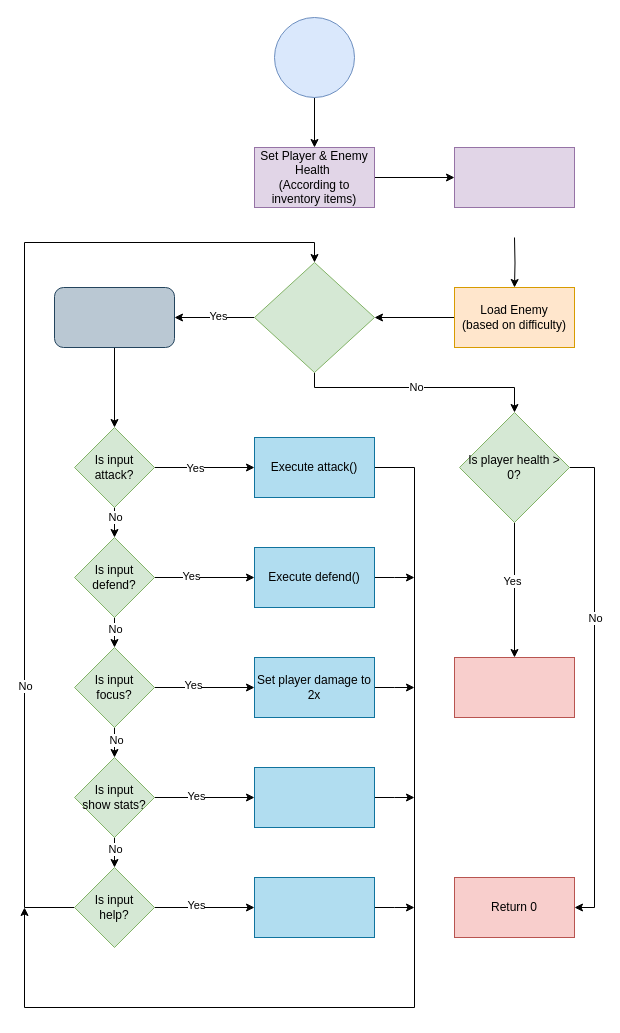
Image size: 620x1033. Some labels were removed from this diagram. Here are the shapes that lost their labels. From the top down, the centre of each, then its label:
(x=514, y=177): Initialize Required Local Variables
(x=114, y=317): Get User Input
(x=314, y=317): Is enemy alive?
(x=514, y=687): Return 1
(x=314, y=797): Print stats
(x=314, y=907): Print help / info
